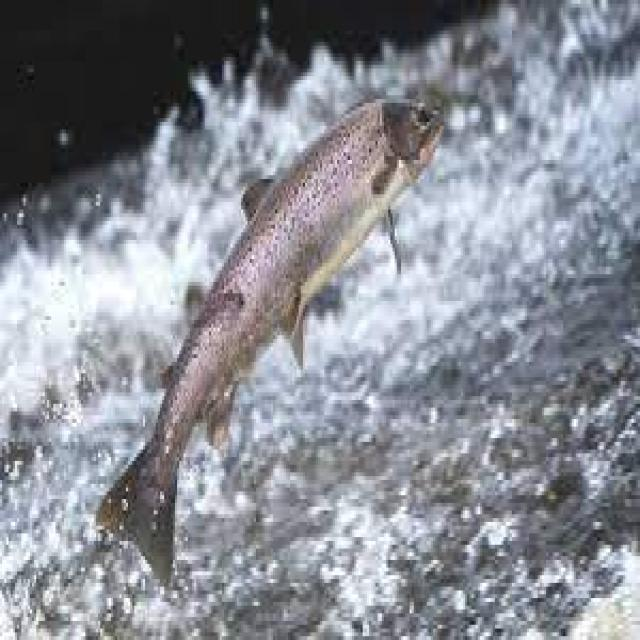salmon: (93, 62, 484, 596)
